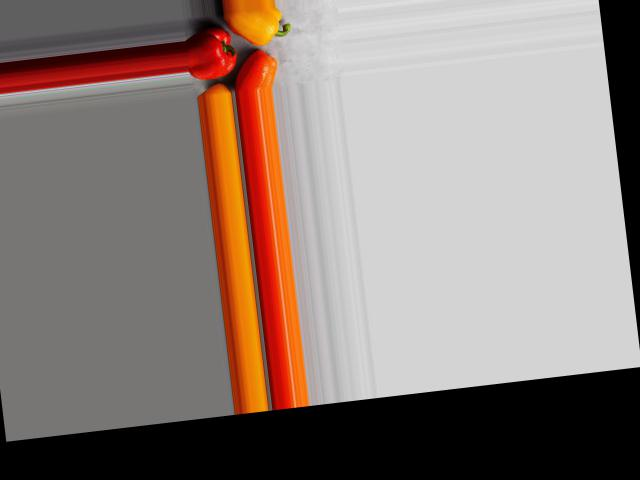bell_pepper: (184, 22, 239, 82)
